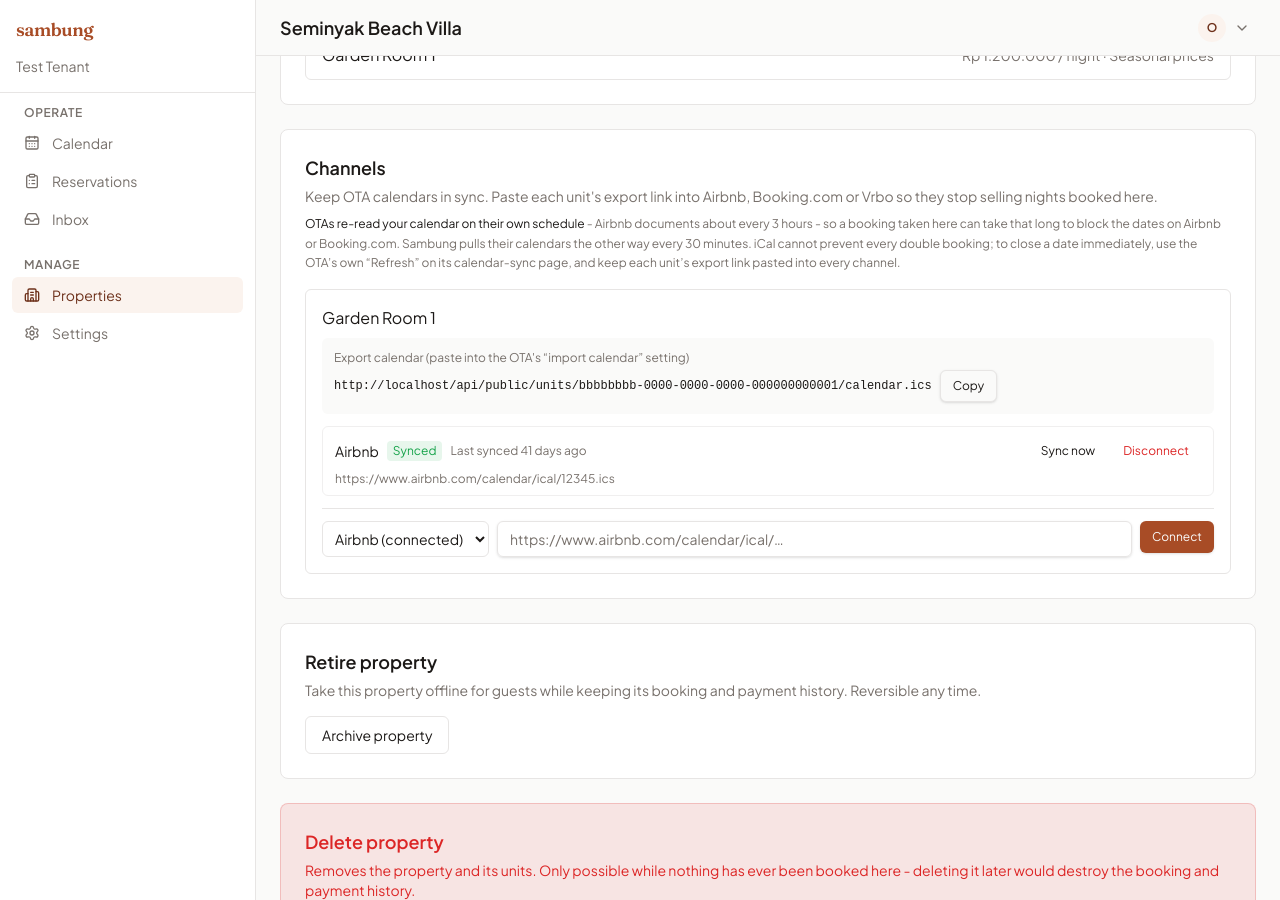
it: channels section (§4.5, #55) › disconnects and reports how many imported bookings were kept
(page scrolled)
Click the button "Disconnect" at (1156, 450), box [1111,434,1201,466]
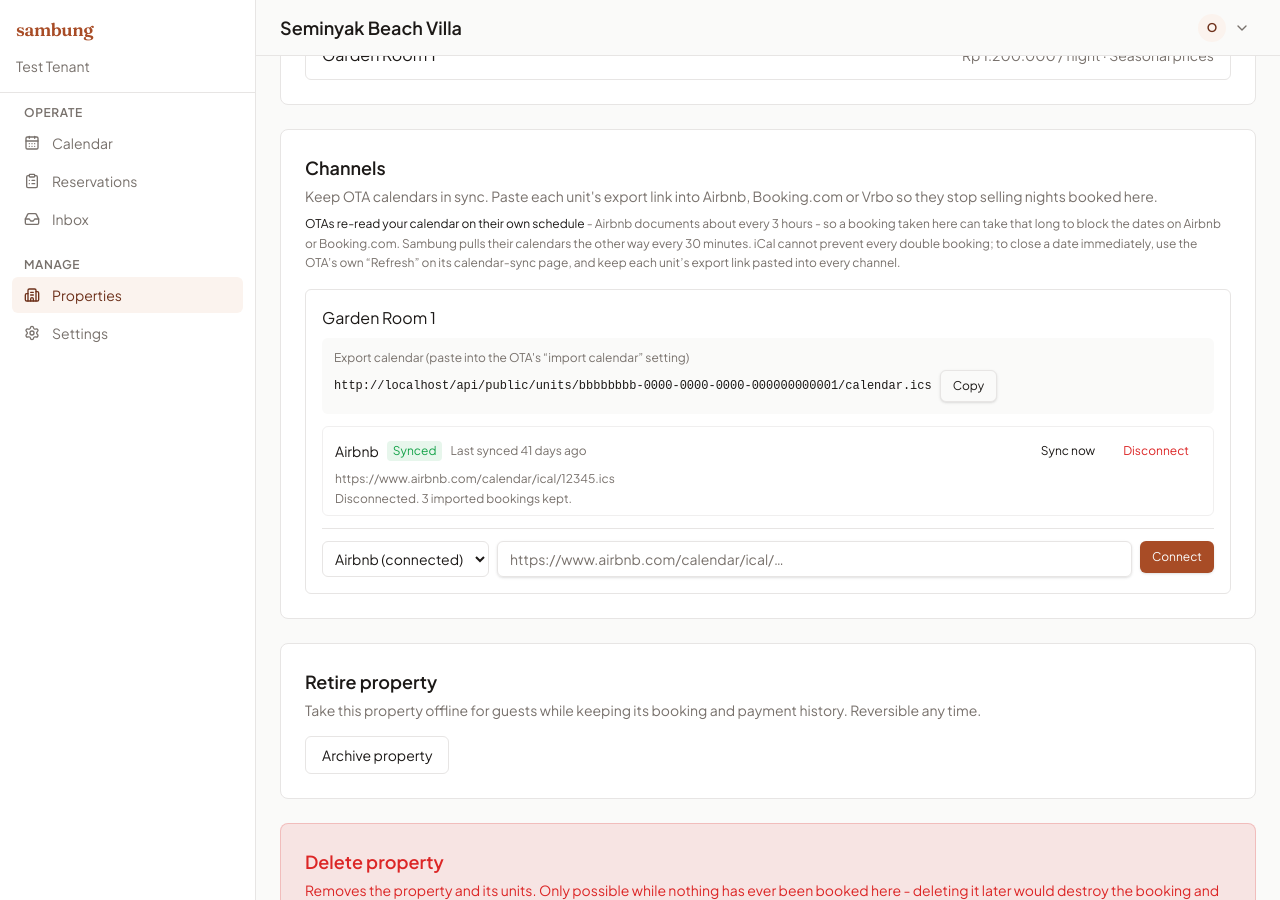
Expected: the text "Disconnected. 3 imported bookings kept." is shown, [335,490,572,506]
